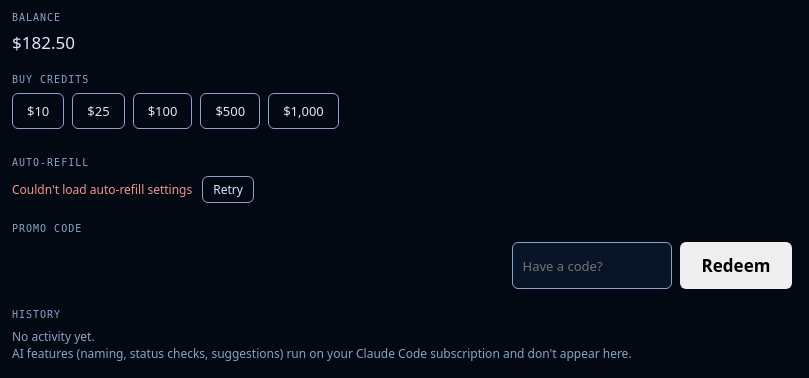
Test: auto-refill block › shows an inline error + Retry when settings can't load, leaving the rest alive
Expected: the text "Couldn't load auto-refill settings" is shown, [12, 181, 192, 198]
Expected: the text "$182.50" is shown, [12, 31, 75, 54]
Click the button with aria-label "Retry auto-refill settings": (228, 190) [202, 176, 254, 203]
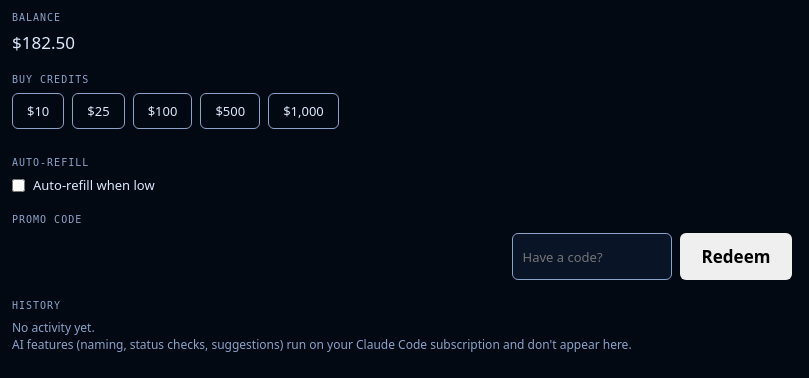
Result: the checkbox labelled "Auto-refill when low" is shown at [12, 178, 25, 192]
